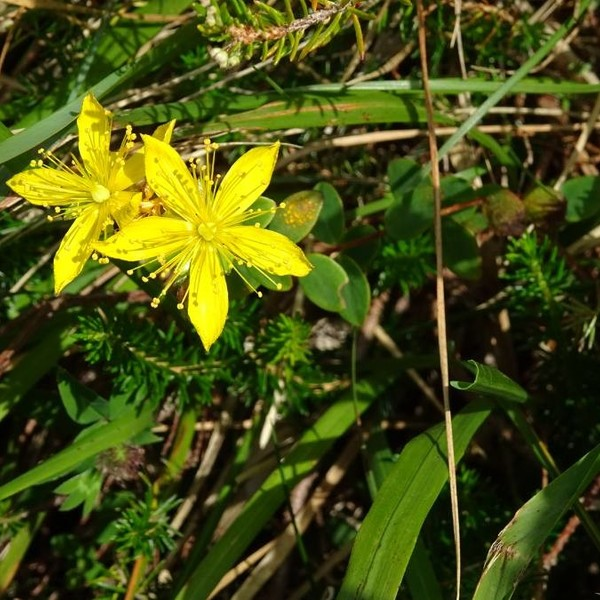obstacle: (14, 80, 399, 348), (49, 305, 256, 540), (366, 361, 567, 569)
